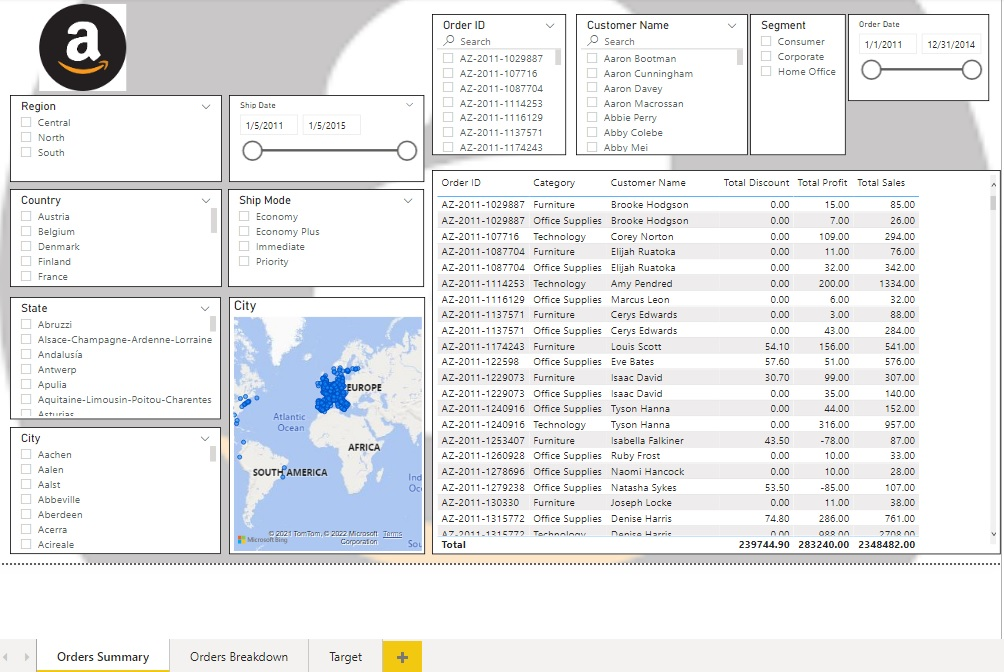

What the dashboard file says about the page in this screenshot:
{"tool":"powerbi","page":{"name":"Orders Summary","canvas":[1280,720],"ordinal":0},"visuals":[{"type":"tableEx","fields":{"Values":["Orders.Order ID","Orders.Category","Orders.Customer Name","Orders.Total Discount","Orders.Total Profit","Orders.Total Sales"]},"box":[554.6,219.3,725.4,489.6],"z":0},{"type":"slicer","fields":{"Values":["Orders.Order Date"]},"box":[1085.1,20.5,179.7,111.5],"z":1000},{"type":"slicer","fields":{"Values":["Orders.City"]},"box":[16.6,546.9,269,161.9],"z":2000},{"type":"slicer","fields":{"Values":["Orders.Country"]},"box":[16.6,243.5,270.3,124.9],"z":3000},{"type":"slicer","fields":{"Values":["Orders.Customer Name"]},"box":[738.2,20.4,219.3,179.8],"z":4000},{"type":"slicer","fields":{"Values":["Orders.Order ID"]},"box":[555.1,20.5,170.6,179.7],"z":5000},{"type":"slicer","fields":{"Values":["Orders.Region"]},"box":[16.6,123.7,270.3,110.9],"z":6000},{"type":"slicer","fields":{"Values":["Orders.Segment"]},"box":[960,20.4,122.4,179.8],"z":7000},{"type":"slicer","fields":{"Values":["Orders.Ship Mode"]},"box":[294.5,243.5,249.9,124.9],"z":8000},{"type":"slicer","fields":{"Values":["Orders.Ship Date"]},"box":[295.8,123.7,248.6,110.9],"z":9000},{"type":"slicer","fields":{"Values":["Orders.State"]},"box":[16.6,381.2,269,155.5],"z":10000},{"type":"map","fields":{"Category":["Orders.City"]},"box":[295.8,381.2,249.9,327.6],"z":10001},{"type":"image","box":[40.8,2.5,136.4,121.1],"z":10002}]}

Visuals, with their boxes in screenshot pixels (x1, y1, x2, y2):
tableEx - Orders.Order ID x Orders.Category: left=432, top=167, right=993, bottom=546
slicer - Orders.Order Date: left=842, top=13, right=981, bottom=99
slicer - Orders.City: left=15, top=420, right=224, bottom=546
slicer - Orders.Country: left=15, top=186, right=225, bottom=282
slicer - Orders.Customer Name: left=574, top=13, right=743, bottom=152
slicer - Orders.Order ID: left=432, top=13, right=564, bottom=152
slicer - Orders.Region: left=15, top=93, right=225, bottom=179
slicer - Orders.Segment: left=745, top=13, right=840, bottom=152
slicer - Orders.Ship Mode: left=230, top=186, right=424, bottom=282
slicer - Orders.Ship Date: left=231, top=93, right=424, bottom=179
slicer - Orders.State: left=15, top=292, right=224, bottom=413
map - Orders.City: left=231, top=292, right=425, bottom=546
image: left=34, top=0, right=140, bottom=93
